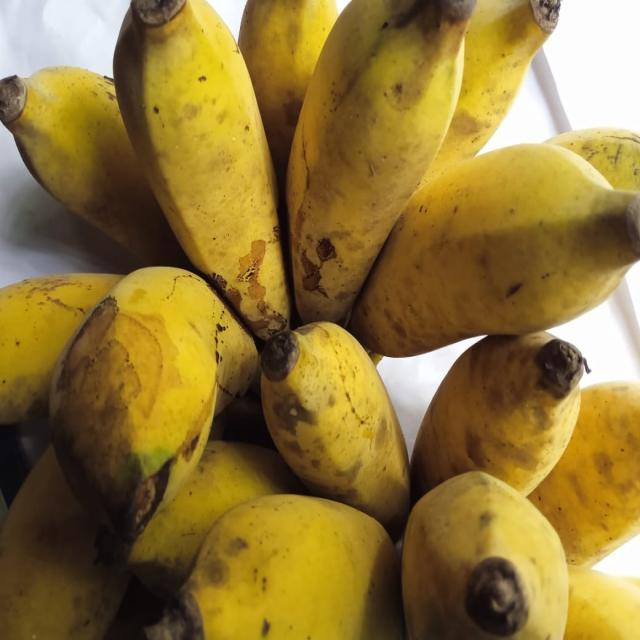banana: (348, 143, 639, 356), (286, 0, 475, 323), (114, 0, 290, 339), (50, 267, 259, 542), (144, 495, 404, 639), (0, 66, 187, 266), (97, 440, 306, 598), (261, 321, 409, 539), (411, 332, 584, 501), (402, 471, 568, 639), (421, 0, 560, 186), (0, 447, 131, 639), (529, 381, 639, 566), (238, 0, 338, 195), (0, 273, 122, 424), (547, 128, 639, 191), (564, 566, 639, 639), (96, 577, 164, 639), (213, 389, 276, 449), (622, 575, 639, 588)
